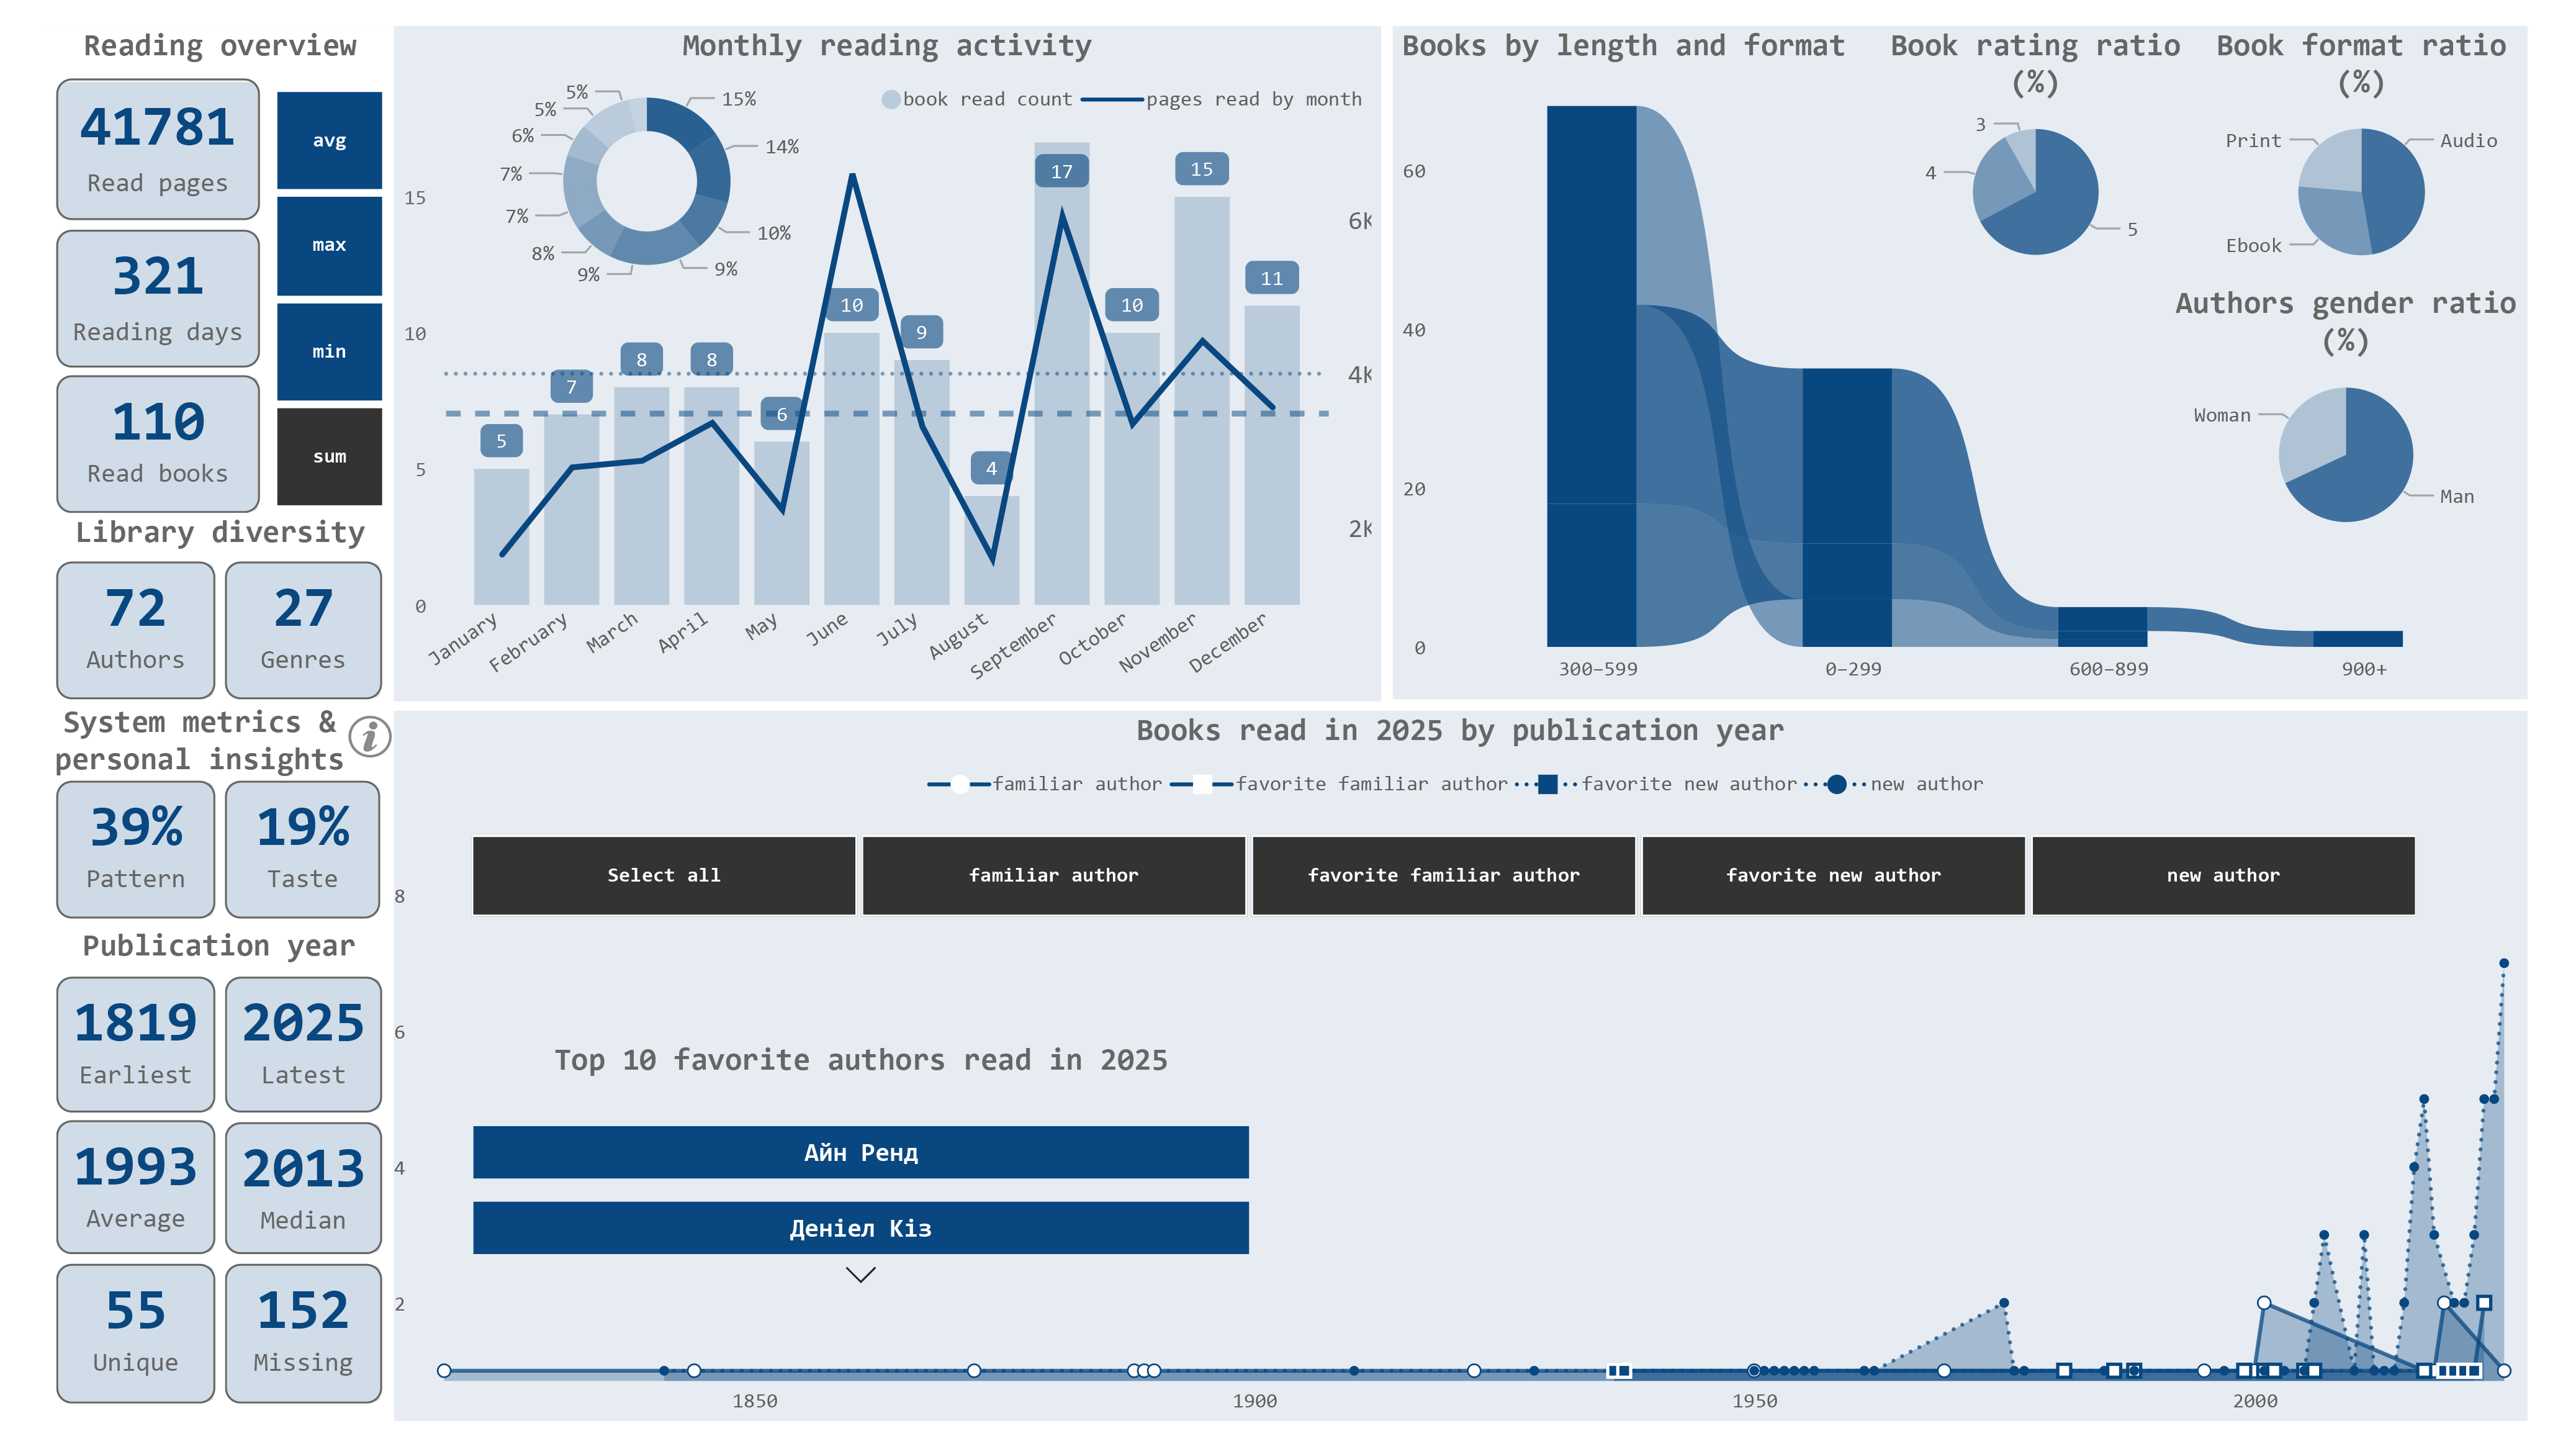

The page's visual inventory and layout, read from the dashboard file:
{"tool":"powerbi","page":{"name":"main data","canvas":[1280,720],"ordinal":0},"visuals":[{"type":"areaChart","title":"Books read in 2025 by publication year","fields":{"Category":["public books (2).year_publ"],"Y":["Table7.Books Count"],"Series":["public authors (2).Author Type"]},"box":[179.4,352.6,1100,366],"z":0},{"type":"ribbonChart","title":"Books by length and format","fields":{"Category":["public books (2).Pages_Group"],"Y":["Table7.Books Count"],"Series":["public books (2).format"]},"box":[693.8,0,585.6,347.4],"z":1000},{"type":"lineClusteredColumnComboChart","title":"Monthly reading activity","fields":{"Y2":["Sum(books_by_month1.pages_read)"],"Y":["Sum(books_by_month1.book_count)"],"Category":["books_by_month1.Month Name"]},"box":[179.4,0,508.1,347.6],"z":2000},{"type":"cardVisual","fields":{"Data":["Table7.Pages KPI"]},"box":[0,22.2,115.3,83.1],"z":3000},{"type":"donutChart","title":"Percentage of books read by month","fields":{"Y":["Sum(books_by_month1.book_count)"],"Category":["books_by_month1.month"]},"box":[225,15.4,169.2,129.8],"z":4000},{"type":"cardVisual","fields":{"Data":["Table7.Books KPI"]},"box":[5.4,175.2,105.7,76.1],"z":5000},{"type":"slicer","fields":{"Values":["Value Type main.Type main"]},"box":[92.6,27.5,104.2,226.8],"z":6000},{"type":"cardVisual","fields":{"Data":["Table7.1Reading days KPI"]},"box":[0,100,115.3,81.5],"z":7000},{"type":"cardVisual","fields":{"Data":["Table7.Average Publication Year"]},"box":[5.4,558.8,82.4,74.3],"z":8000},{"type":"cardVisual","fields":{"Data":["Table7.Median Publication Year"]},"box":[92.2,559.7,81.5,73.4],"z":9000},{"type":"cardVisual","fields":{"Data":["Table7.Earliest Publication Year"]},"box":[5.2,484.7,82.3,75],"z":10000},{"type":"cardVisual","fields":{"Data":["Table7.Latest Publication Year"]},"box":[92.3,484.7,81.5,75.8],"z":11000},{"type":"cardVisual","fields":{"Data":["Table7.Unique Publication Years"]},"box":[5.2,633.1,82.7,77],"z":12000},{"type":"cardVisual","fields":{"Data":["Table7.Missing Publication Years"]},"box":[92.3,633.1,81.5,77],"z":13000},{"type":"textbox","box":[6.7,0,165.4,25],"z":14000},{"type":"textbox","box":[13.4,459.4,151.3,27.8],"z":15000},{"type":"pieChart","title":"Book rating ratio (%)","fields":{"Y":["Table7.Books Count"],"Category":["public books (2).rating"]},"box":[943.5,0,163.5,132.9],"z":16000},{"type":"pieChart","title":"Authors gender ratio (%)","fields":{"Category":["public authors (2).gender label"],"Y":["CountNonNull(public authors (2).author_id)"]},"box":[1091.8,132.9,187.1,137.6],"z":17000},{"type":"pieChart","title":"Book format ratio (%)","fields":{"Category":["public books (2).format"],"Y":["CountNonNull(public books (2).book_id)"]},"box":[1107.1,0,172.9,132.9],"z":18000},{"type":"cardVisual","fields":{"Data":["CountNonNull(public authors (2).author_id)"]},"box":[0.5,271.1,92.2,81.7],"z":19000},{"type":"textbox","box":[0,348.7,158.2,37.9],"z":20000},{"type":"cardVisual","fields":{"Data":["CountNonNull(public genres (2).genre_id)"]},"box":[87.2,271.1,91.7,81.7],"z":21000},{"type":"cardVisual","fields":{"Data":["public favorite authors.Author Concentration %"]},"box":[0,384.3,92.7,81.5],"z":22000},{"type":"cardVisual","fields":{"Data":["Author Summary.Favorite Authors Share"]},"box":[87.1,384.3,90.3,81.5],"z":23000},{"type":"cardVisual","title":"Top 10 favorite authors read in 2025","fields":{"Data":["Author Summary.Favorite Books"],"Rows":["public favorite_authors.author_name"]},"box":[215.5,522.7,409.3,136.1],"z":24000},{"type":"textbox","box":[12.8,251.4,152.8,23.9],"z":25000},{"type":"slicer","fields":{"Values":["public authors (2).Author Type"]},"box":[192.6,409.9,1053.1,56],"z":26000},{"type":"image","box":[154.9,351,24.2,31.3],"z":27001}]}

Visuals, with their boxes in screenshot pixels (x1, y1, x2, y2), scaled from the page's 1280x720 canvas onto the 2576x1449 screenshot:
"Books read in 2025 by publication year" areaChart: locate(361, 710, 2575, 1446)
"Books by length and format" ribbonChart: locate(1396, 0, 2575, 699)
"Monthly reading activity" lineClusteredColumnComboChart: locate(361, 0, 1384, 700)
cardVisual - Table7.Pages KPI: locate(0, 45, 232, 212)
"Percentage of books read by month" donutChart: locate(453, 31, 793, 292)
cardVisual - Table7.Books KPI: locate(11, 353, 223, 506)
slicer - Value Type main.Type main: locate(186, 55, 396, 512)
cardVisual - Table7.1Reading days KPI: locate(0, 201, 232, 365)
cardVisual - Table7.Average Publication Year: locate(11, 1124, 177, 1274)
cardVisual - Table7.Median Publication Year: locate(186, 1126, 349, 1274)
cardVisual - Table7.Earliest Publication Year: locate(11, 975, 176, 1126)
cardVisual - Table7.Latest Publication Year: locate(186, 975, 349, 1128)
cardVisual - Table7.Unique Publication Years: locate(11, 1274, 177, 1429)
cardVisual - Table7.Missing Publication Years: locate(186, 1274, 349, 1429)
textbox: locate(14, 0, 346, 50)
textbox: locate(27, 924, 331, 980)
"Book rating ratio (%)" pieChart: locate(1899, 0, 2228, 268)
"Authors gender ratio (%)" pieChart: locate(2197, 268, 2574, 544)
"Book format ratio (%)" pieChart: locate(2228, 0, 2575, 268)
cardVisual - CountNonNull(public authors (2).author_id): locate(1, 546, 187, 710)
textbox: locate(0, 702, 318, 778)
cardVisual - CountNonNull(public genres (2).genre_id): locate(176, 546, 360, 710)
cardVisual - public favorite authors.Author Concentration %: locate(0, 774, 187, 937)
cardVisual - Author Summary.Favorite Authors Share: locate(175, 774, 357, 937)
"Top 10 favorite authors read in 2025" cardVisual: locate(434, 1052, 1258, 1326)
textbox: locate(26, 506, 333, 554)
slicer - public authors (2).Author Type: locate(387, 825, 2507, 937)
image: locate(312, 706, 361, 769)
